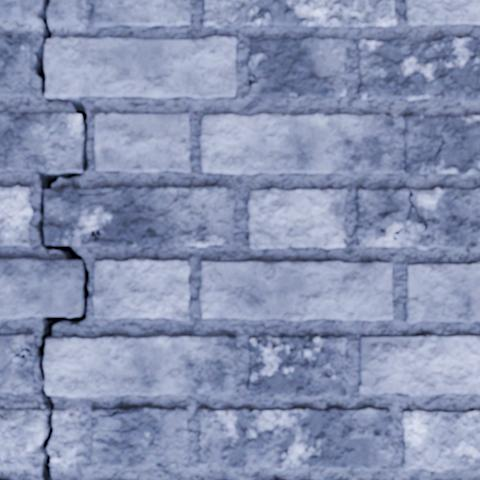brick: (197, 407, 392, 469), (44, 335, 236, 396), (45, 36, 235, 97), (44, 186, 234, 247), (200, 114, 393, 173), (200, 261, 391, 319), (358, 36, 479, 100), (355, 188, 479, 249), (359, 335, 479, 395), (90, 406, 188, 467), (247, 336, 346, 396), (249, 37, 345, 97), (248, 189, 345, 248), (93, 259, 188, 318), (95, 113, 189, 171), (204, 0, 395, 27), (0, 258, 82, 318), (0, 112, 82, 171), (402, 410, 479, 470), (404, 114, 479, 173), (406, 262, 479, 322), (94, 0, 189, 26), (0, 333, 36, 392), (0, 186, 31, 245), (406, 0, 479, 25), (0, 36, 30, 96), (92, 406, 132, 415)
broken_brick: (0, 408, 44, 469), (49, 409, 81, 469), (0, 0, 41, 25), (48, 0, 81, 27)
crack: (1, 0, 89, 479), (392, 187, 430, 241), (224, 410, 252, 449), (91, 422, 143, 434), (92, 405, 136, 419), (77, 185, 124, 196), (248, 73, 259, 88), (385, 150, 394, 159), (229, 372, 237, 381), (250, 38, 267, 42), (342, 238, 346, 244), (70, 412, 73, 417)
